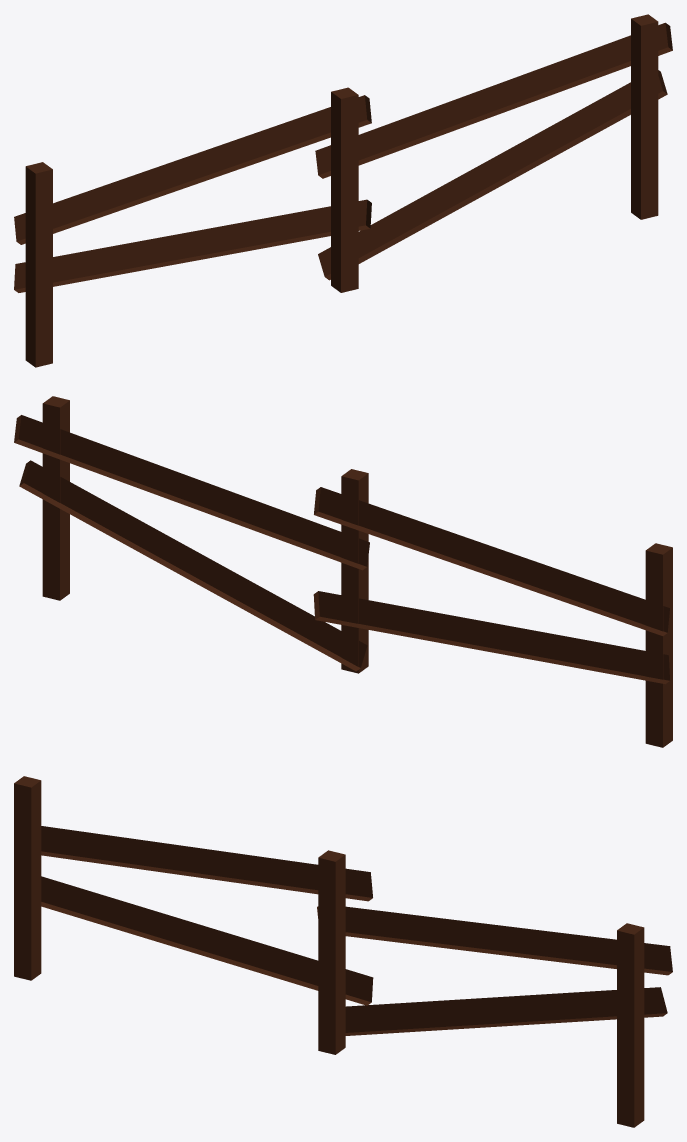
The model's file is fence1.glb.
The picture shows the model from 3 angles, top to bottom: view 1: azimuth 30°, elevation 25°; view 2: azimuth 150°, elevation 25°; view 3: azimuth 330°, elevation 25°; orthographic projection.
Visible parts, largest first — view 1: fence1; view 2: fence1; view 3: fence1.
Part boxes in pixels (box(x1,y1,x2,y2)): fence1: box(14, 14, 672, 367); fence1: box(14, 396, 672, 747); fence1: box(14, 776, 672, 1127).
Bounding box in the file's own units: 4.3 × 1.22 × 0.1655.
